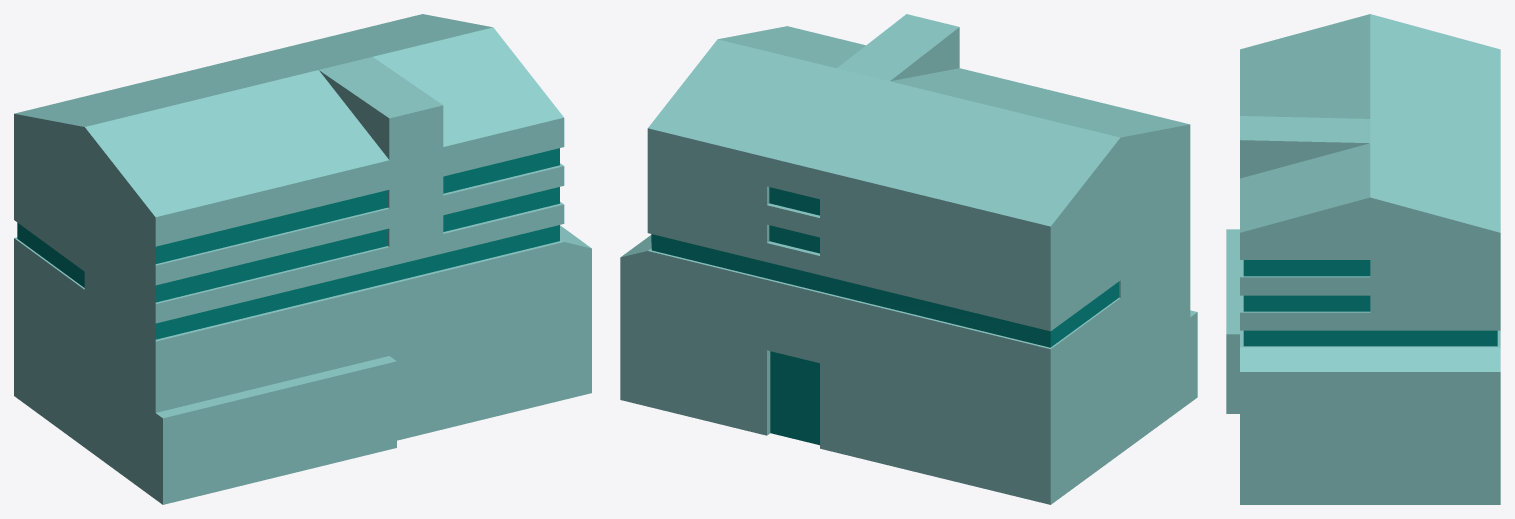
Rendered from bat_7.FBX.
The picture shows the model from 3 angles, left to right: view 1: azimuth 30°, elevation 25°; view 2: azimuth 150°, elevation 25°; view 3: azimuth 270°, elevation 25°; orthographic projection. The views are drawn at different scales.
Visible parts, largest first — view 1: Box002; view 2: Box002; view 3: Box002.
Boxes of the visible parts, x1,y1,x2,y2 form: Box002: (14,14,591,504); Box002: (620,14,1197,504); Box002: (1226,14,1500,504).
Size of the model in its own units: 84.09 by 59.67 by 49.71.
